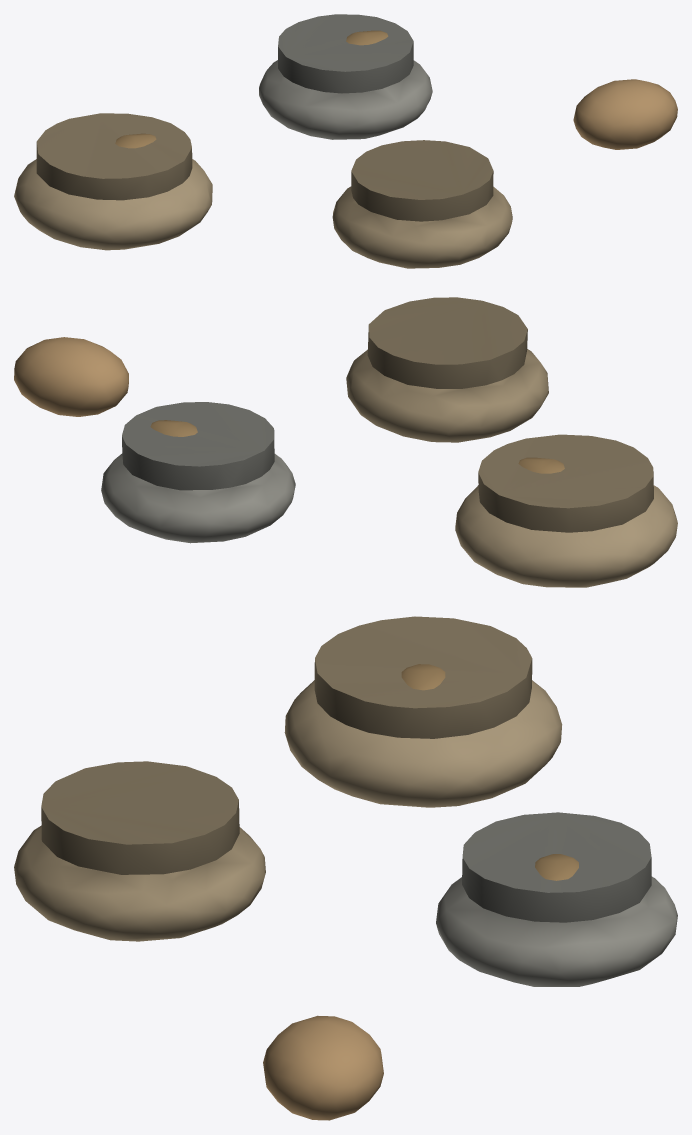
The model's file is dish_stones_b_lod1.glb.
3 renders of one model, top to bottom at view 1: azimuth 30°, elevation 25°; view 2: azimuth 150°, elevation 25°; view 3: azimuth 270°, elevation 25°, orthographic. The views are drawn at different scales.
Visible parts, largest first — view 1: Surface.001; view 2: Surface.001; view 3: Surface.001.
Boxes of the visible parts, <box> form: Surface.001: <box>14,14,677,268</box>; Surface.001: <box>14,297,677,587</box>; Surface.001: <box>14,616,677,1120</box>.
Bounding box in the file's own units: 2.95 × 0.4256 × 1.99.
